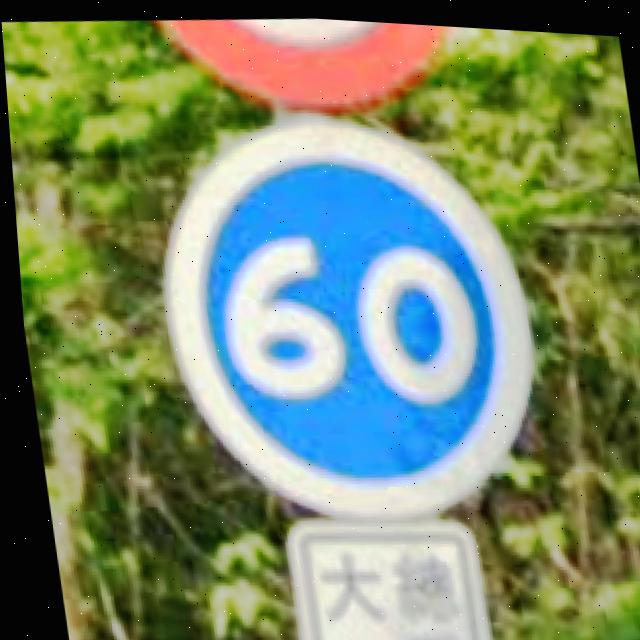min60: (131, 87, 553, 533)
